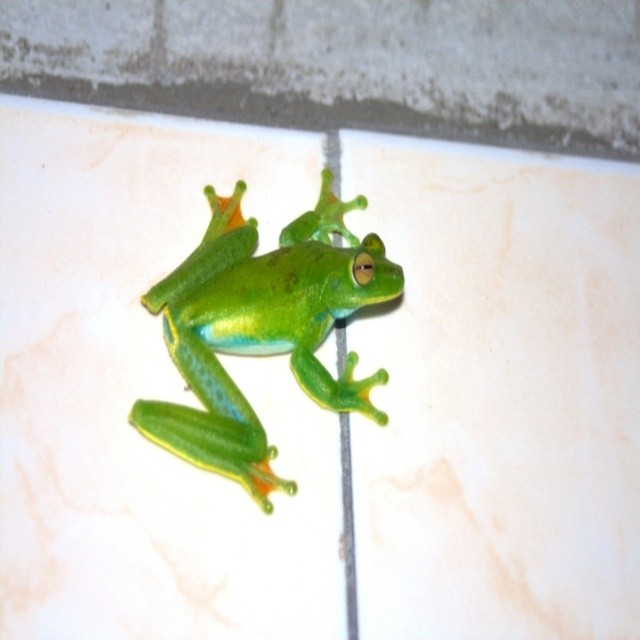Frog: (126, 164, 407, 515)
